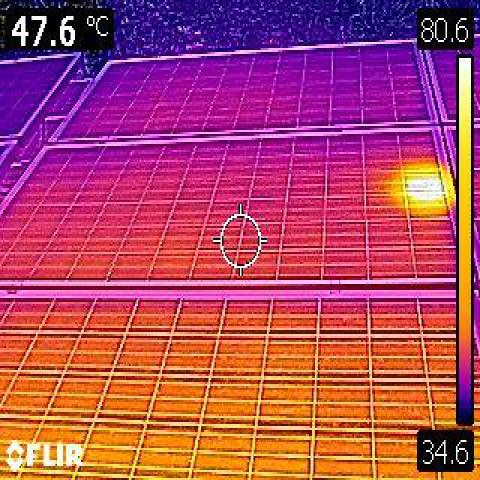fault: (406, 163, 440, 212)
